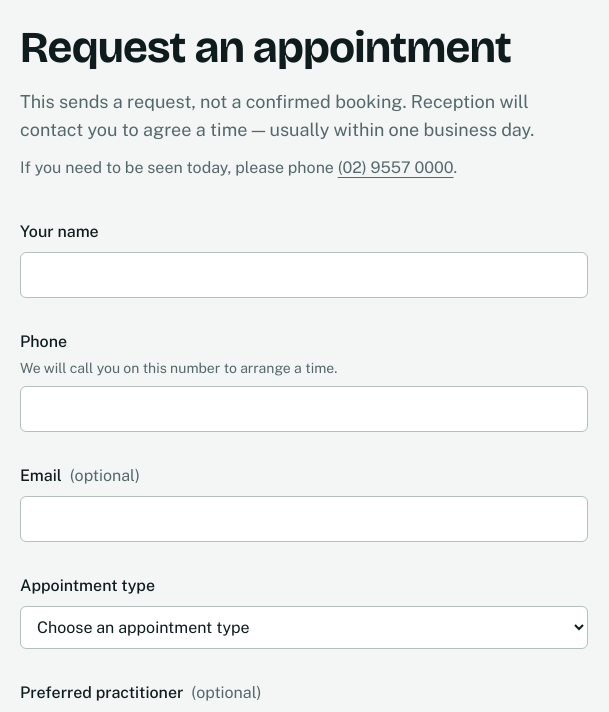
Test: Book › blocks submission without consent and says why
Step 1. Type "Jo Nguyen" into the field labelled "Your name" → point(304, 274), box [20,252,588,298]
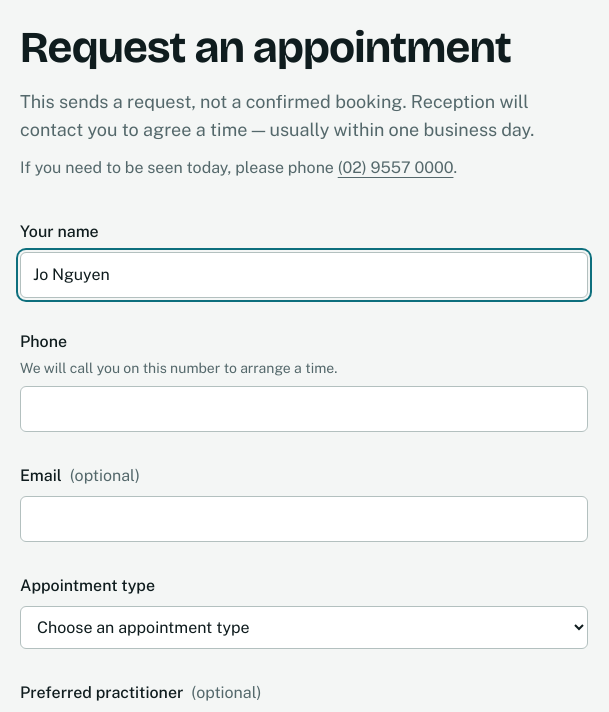
Step 2. Type "0412345678" into the field labelled "Phone" → point(304, 408), box [20,386,588,432]
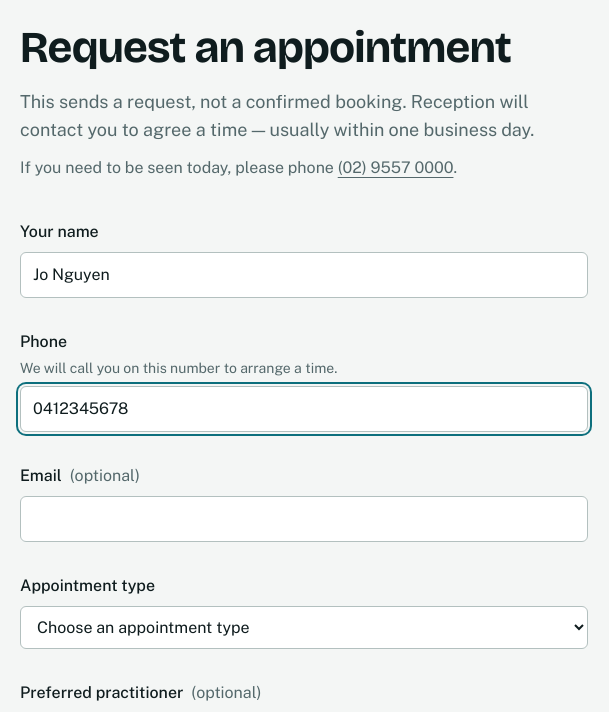
Step 3. Select "Initial physiotherapy consultation — 45 min, $145" in the dropdown labelled "Appointment type" → point(304, 627), box [20,606,588,648]
(page scrolled)
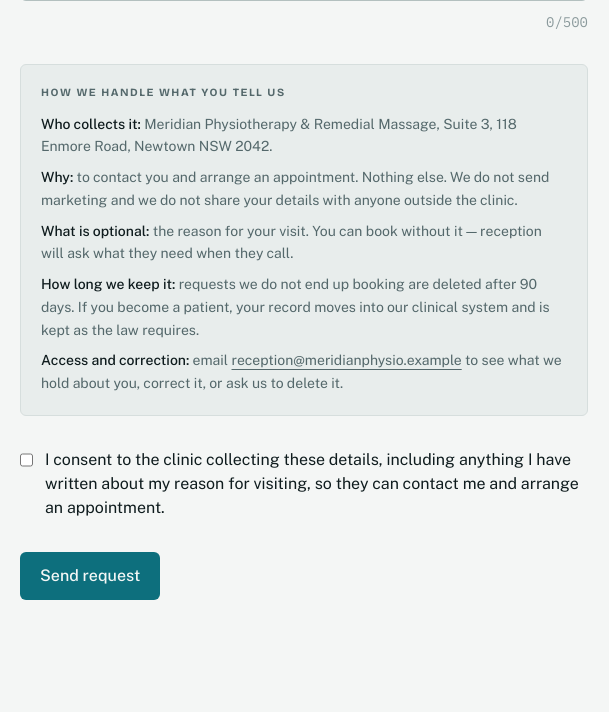
Step 4. Click the button "Send request" → point(90, 576), box [20,552,160,600]
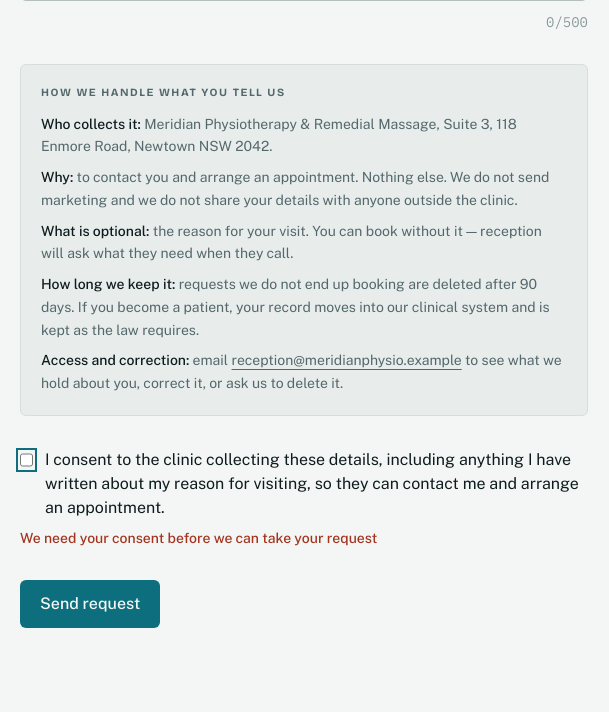
expect the text "We need your consent before we can take your request" is shown: met, box [20,530,377,546]
